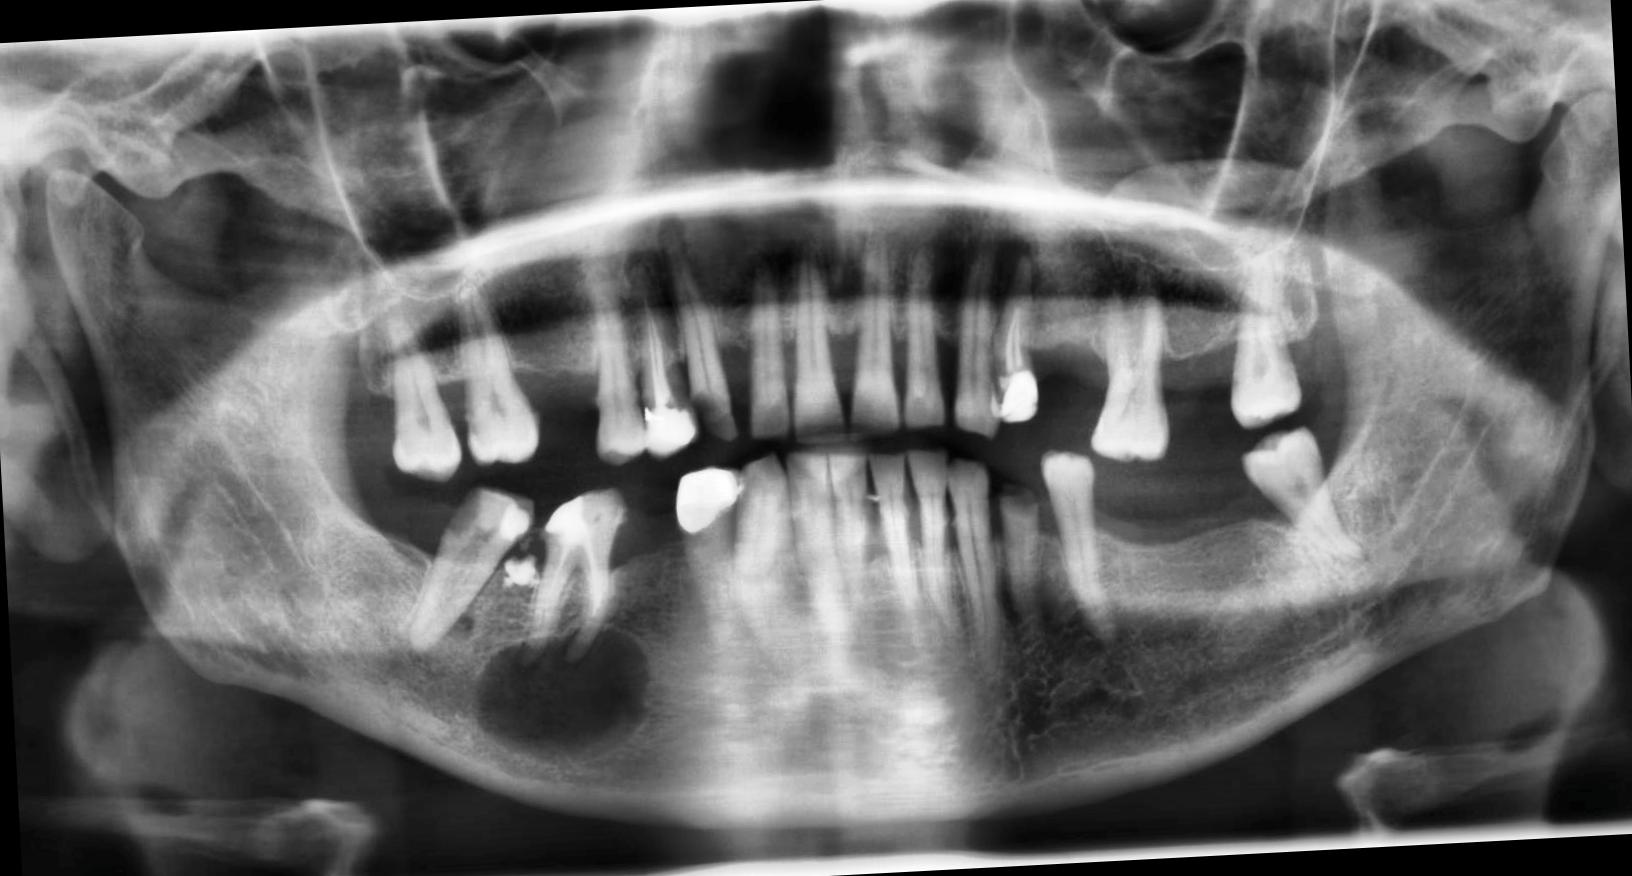radicular: (468, 617, 658, 772)
